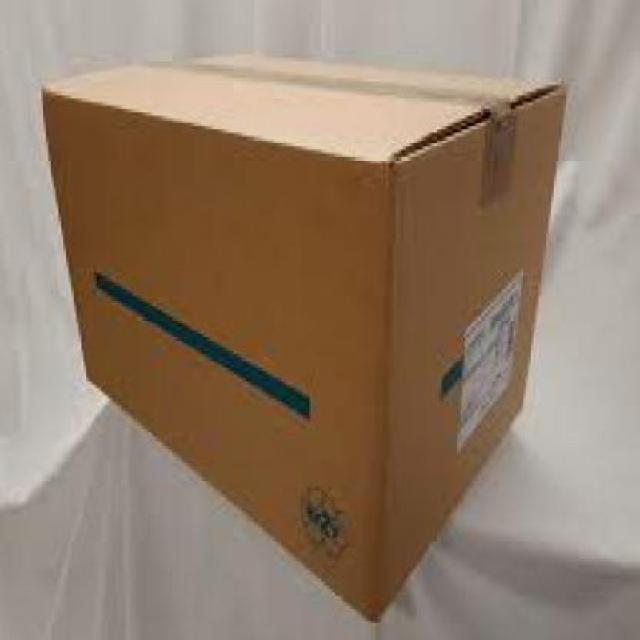box: (23, 38, 582, 630)
